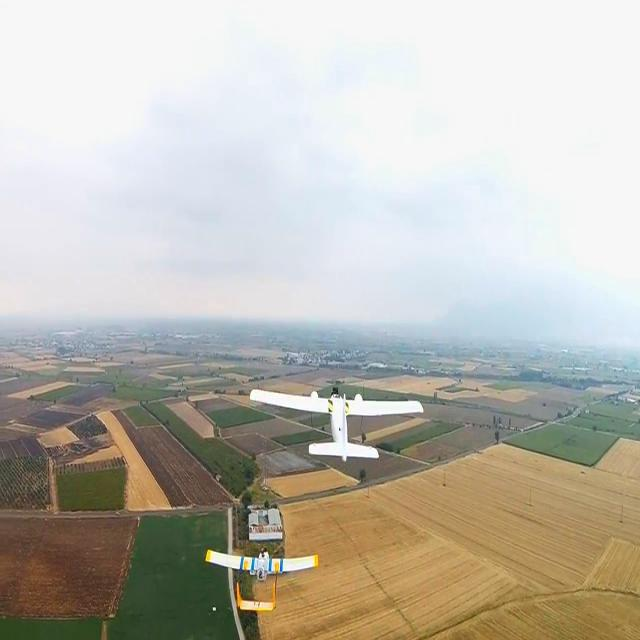iha: (231, 406, 422, 447), (196, 553, 328, 599)
